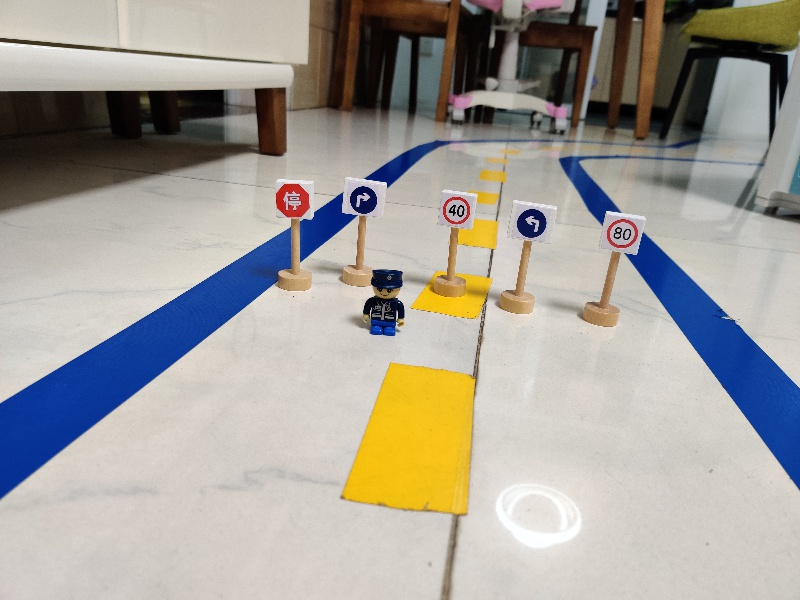limit_40: (435, 186, 479, 231)
limit_80: (595, 208, 649, 256)
person: (355, 266, 410, 337)
stop: (272, 180, 317, 221)
turn_left: (506, 197, 561, 245)
turn_right: (339, 175, 389, 219)
